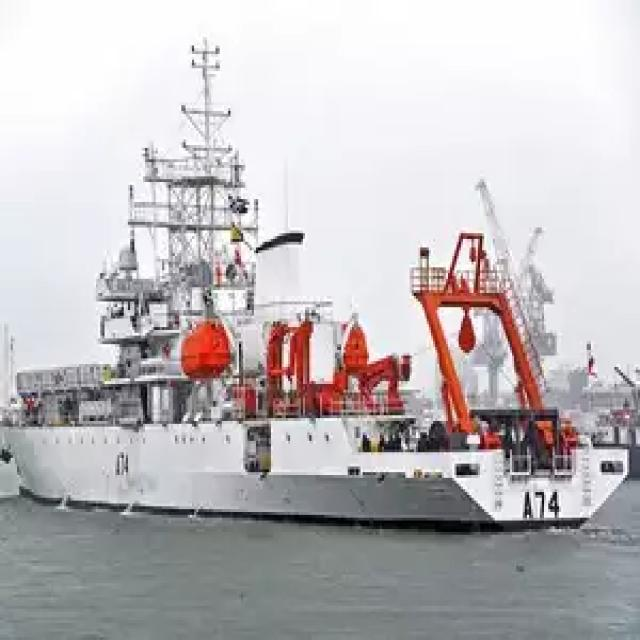Research-Vessel-Sagardhwani-Class-IND: (0, 32, 627, 531)
